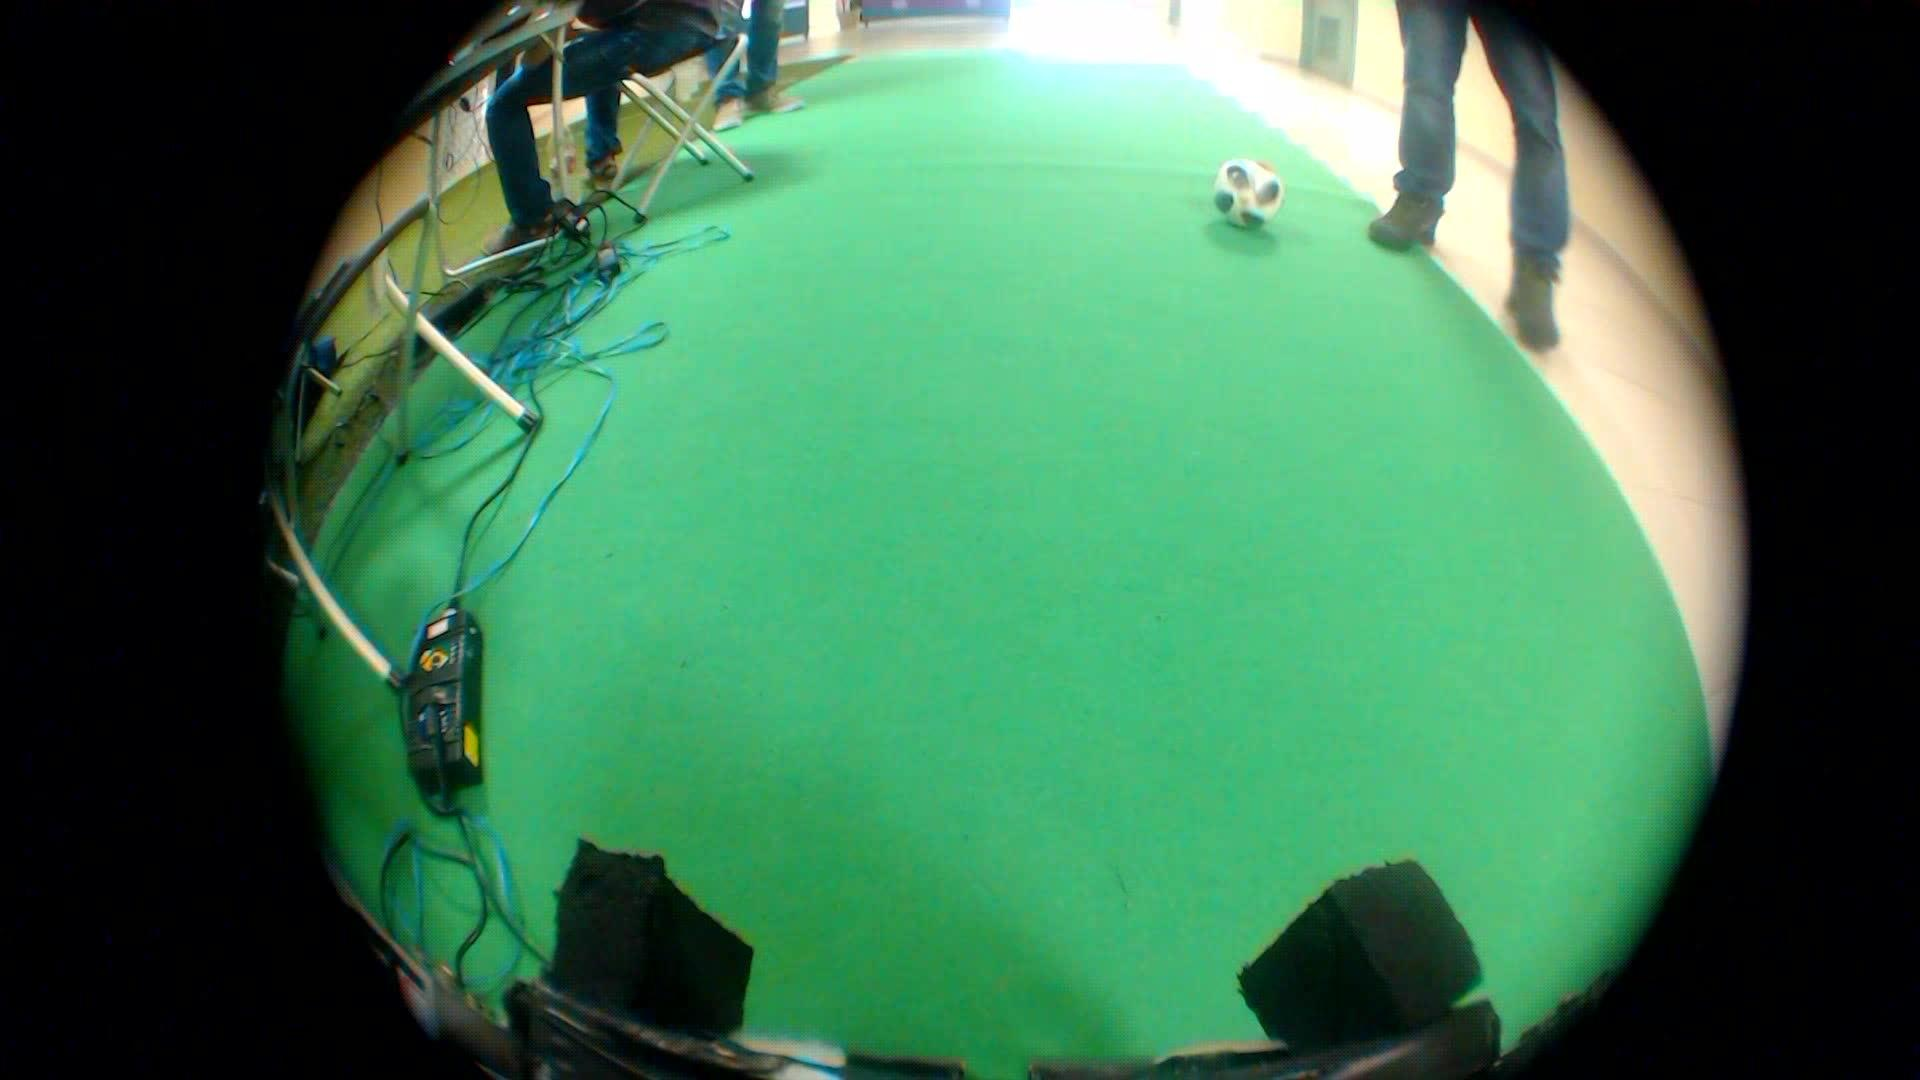ball: (1204, 146, 1291, 236)
